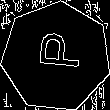P_W: (29, 36, 83, 77)
